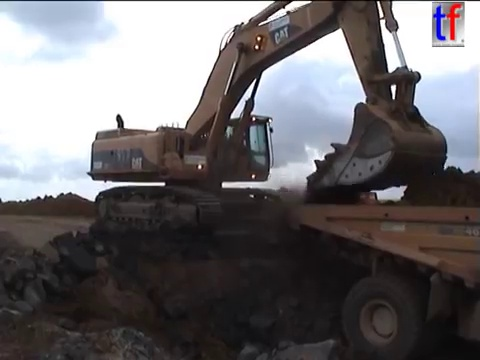excavator: (83, 1, 451, 238)
truck: (283, 199, 480, 360)
wheel loader: (296, 172, 380, 216)
